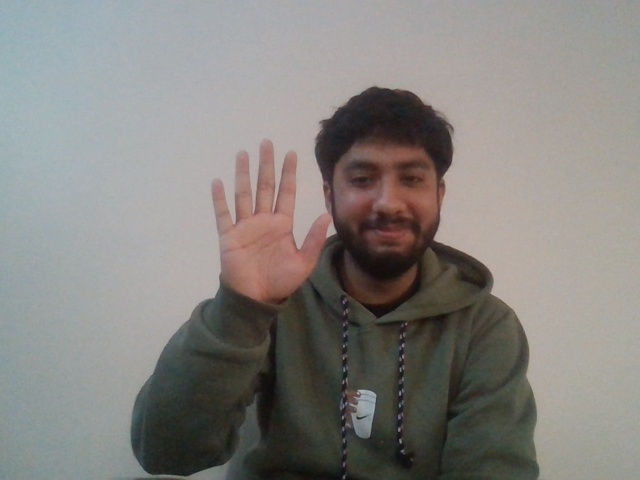Hello: (187, 141, 335, 296)
